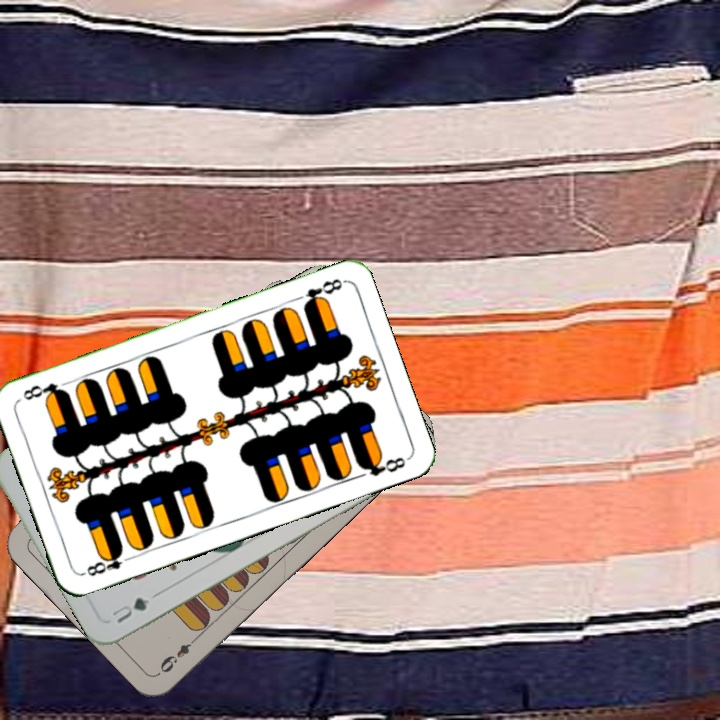E8: (79, 545, 137, 579), (299, 274, 346, 311)
E9: (154, 631, 202, 677)
GU: (108, 593, 152, 626)
